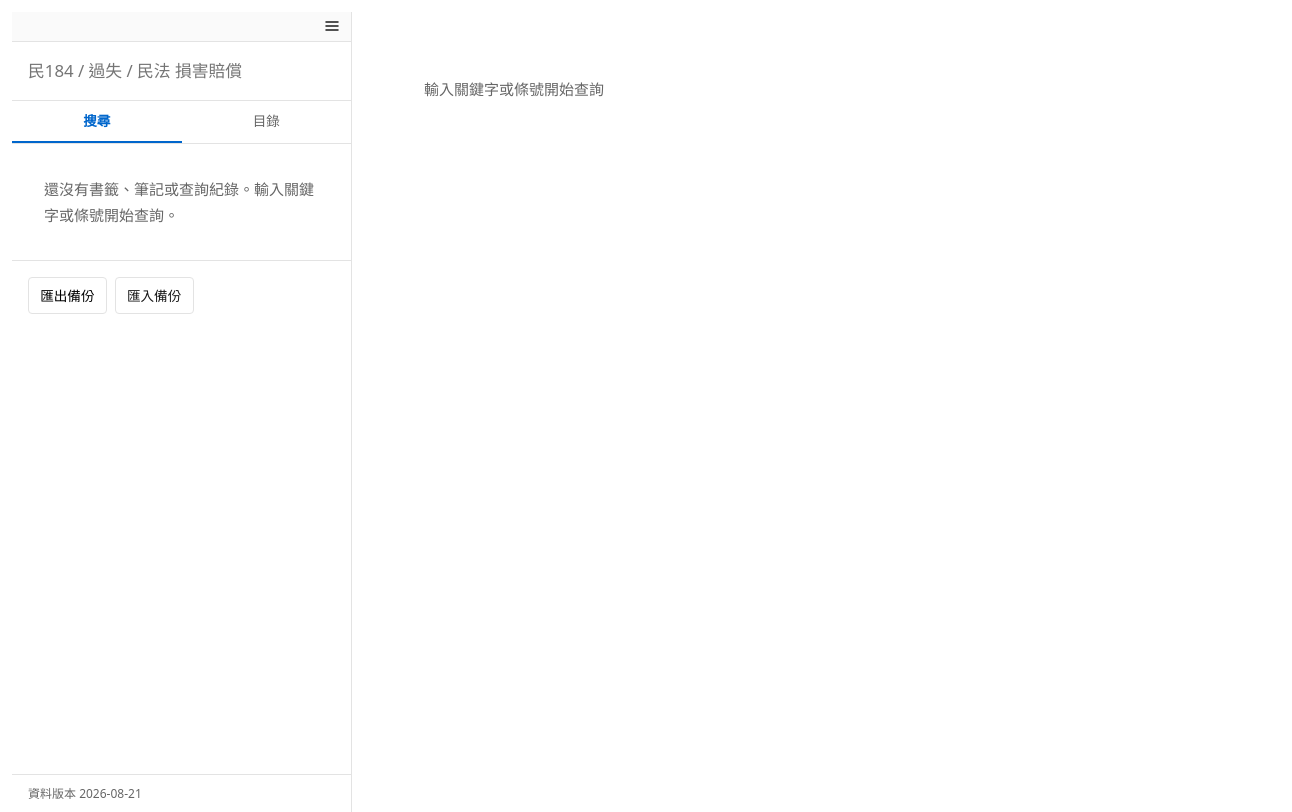
左欄分頁(搜尋 / 目錄) › 從目錄點條文:右欄跳過去,而且成為下一次查詢的脈絡法規(§5.5 情境一)
Click the tab "目錄".
click(266, 122)  # box [182,101,351,143]
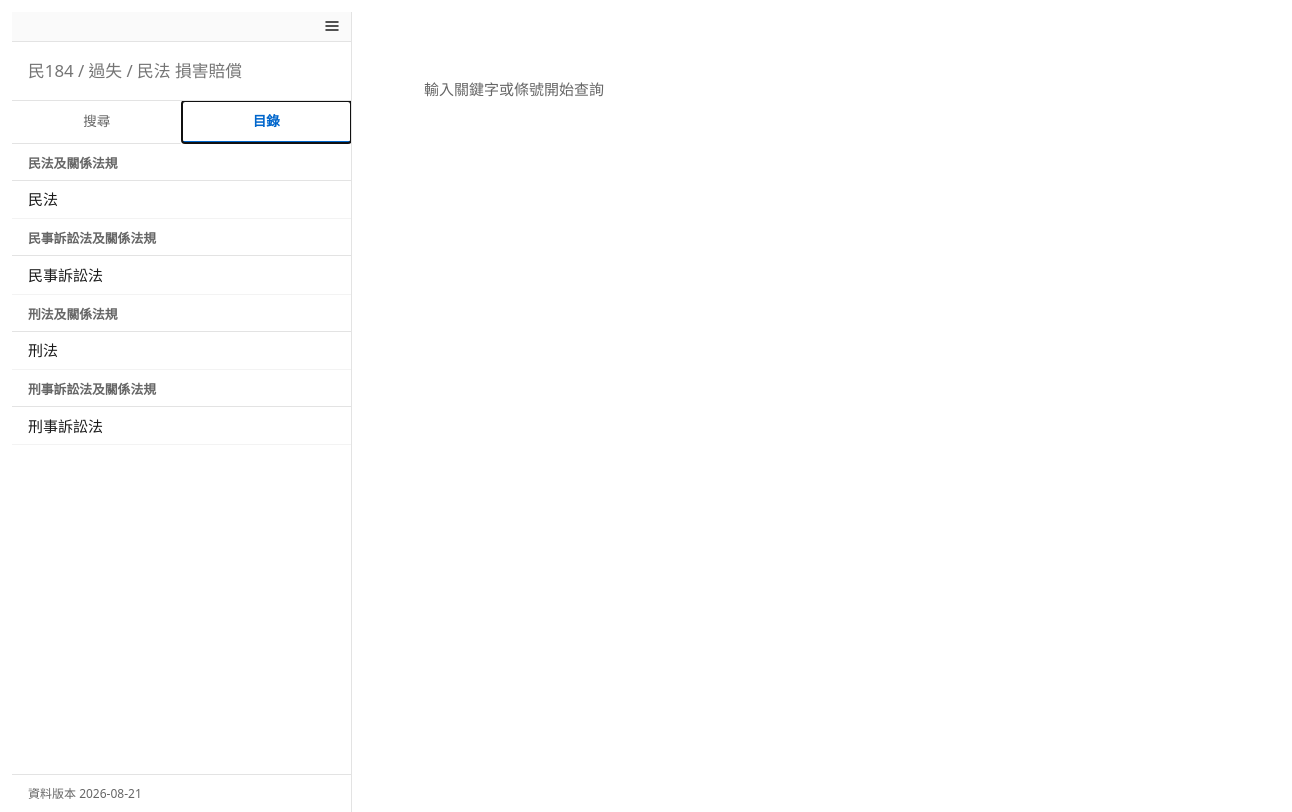
Click the button "刑法".
click(43, 350)  # box [12,332,351,370]
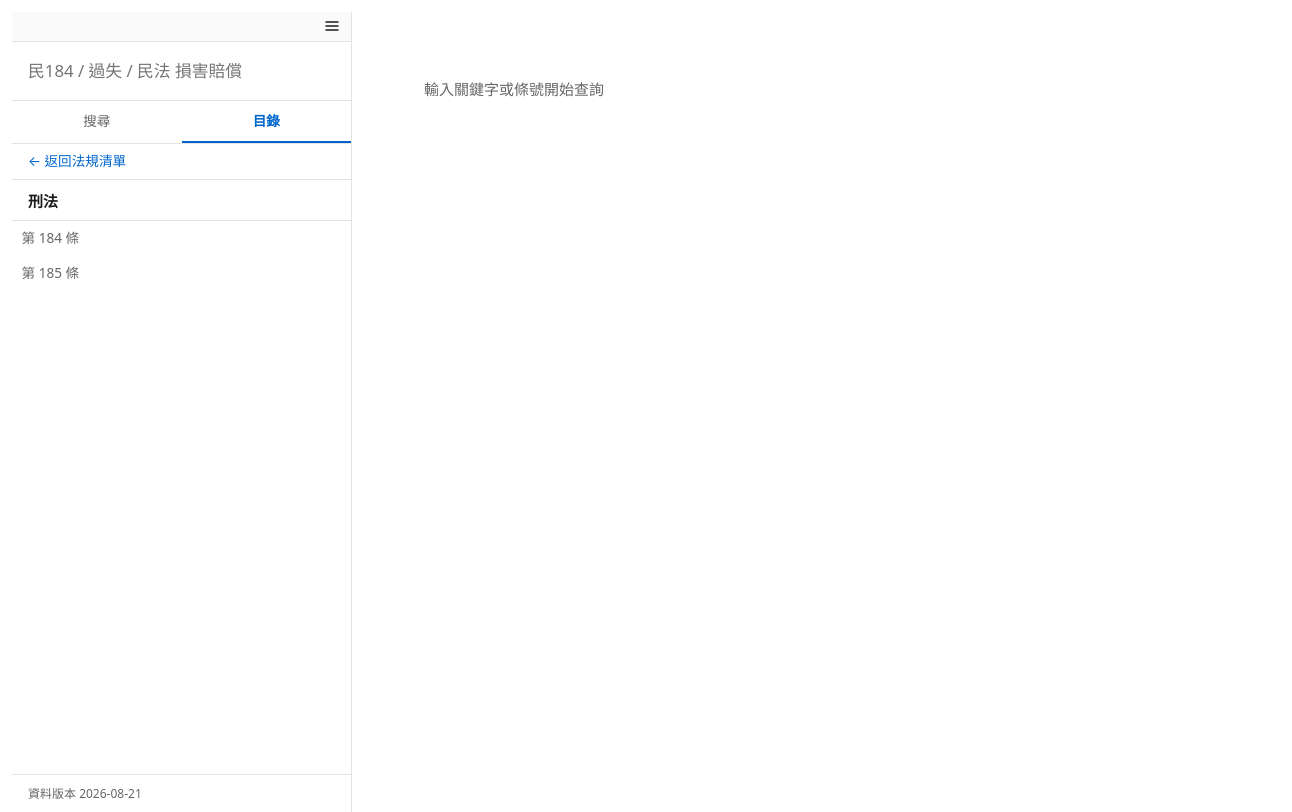
Click the button "第 185 條".
click(50, 273)  # box [12,256,351,290]
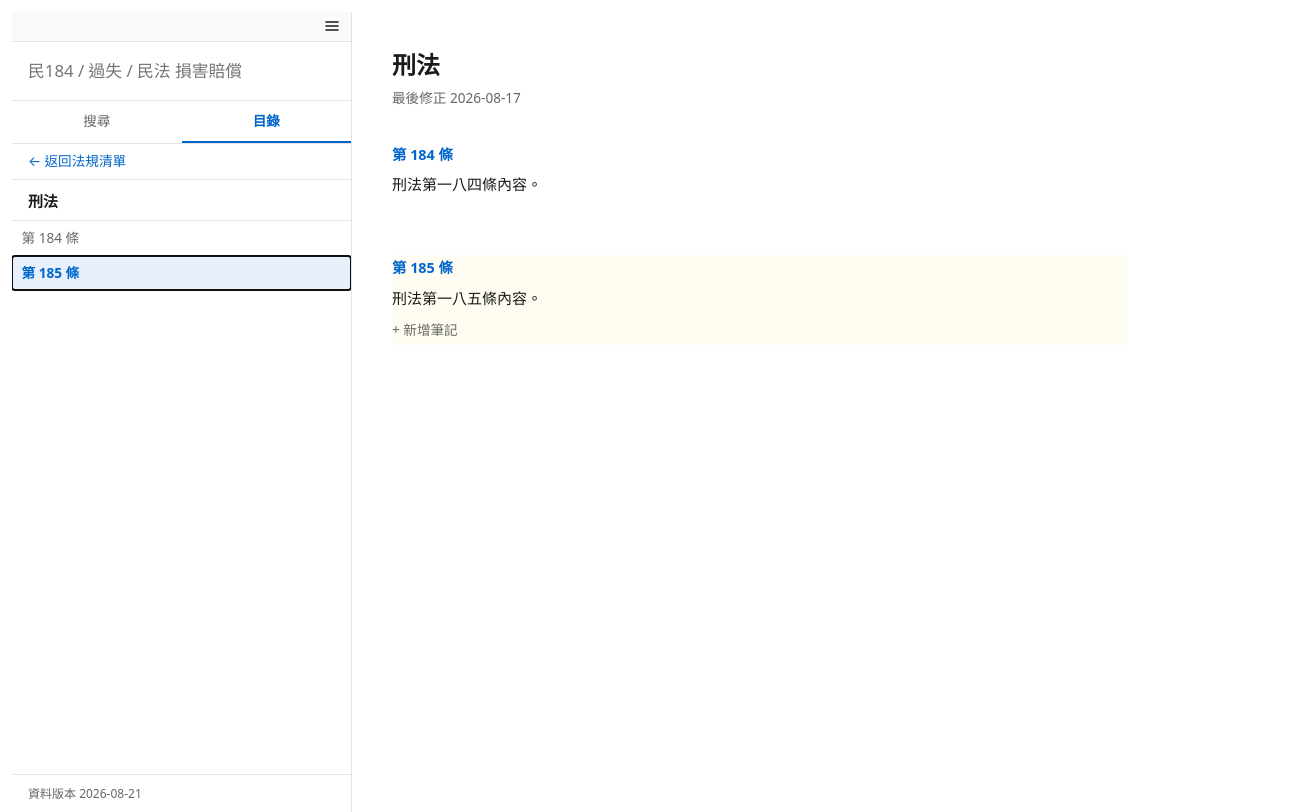
Type "184" into the field named "搜尋法條".
click(182, 71); type("184")  # box [12,42,351,101]
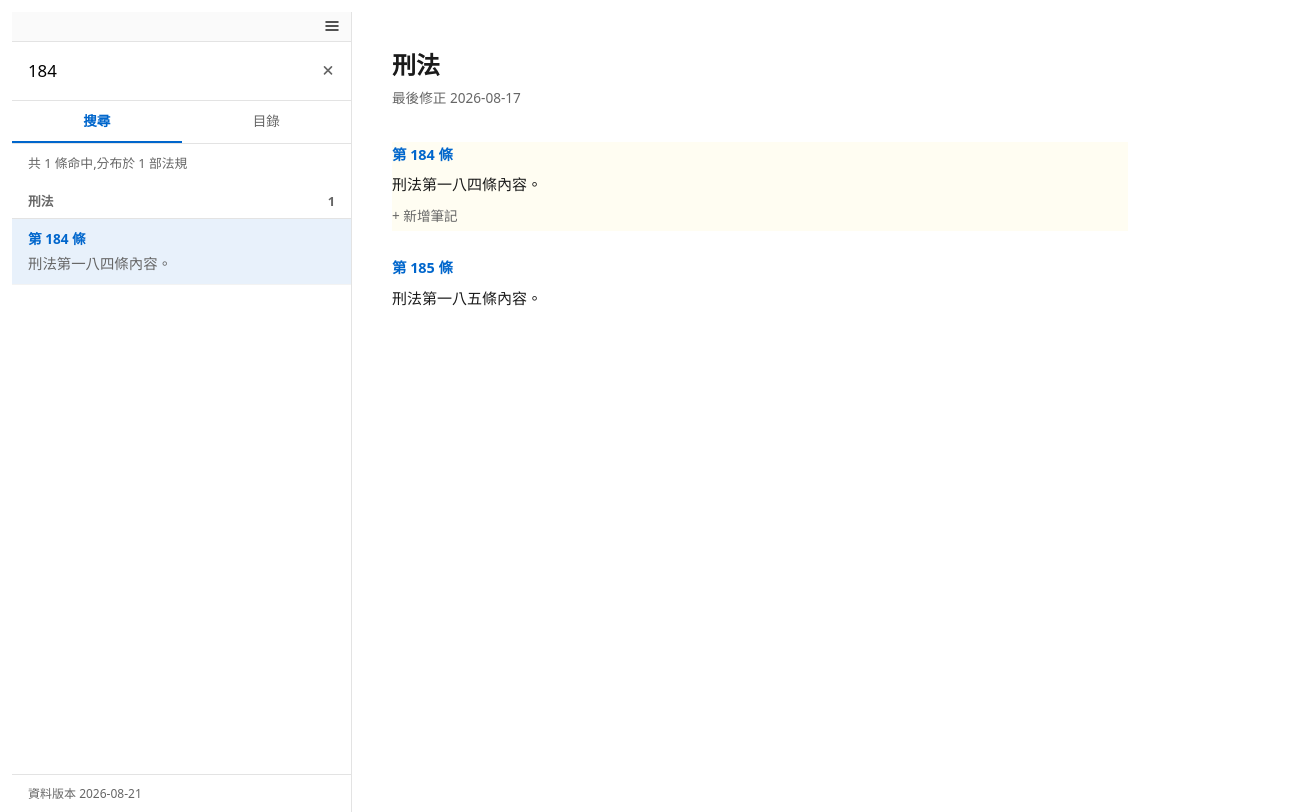
Expected: the number of options is 1, [12,219,351,285]
